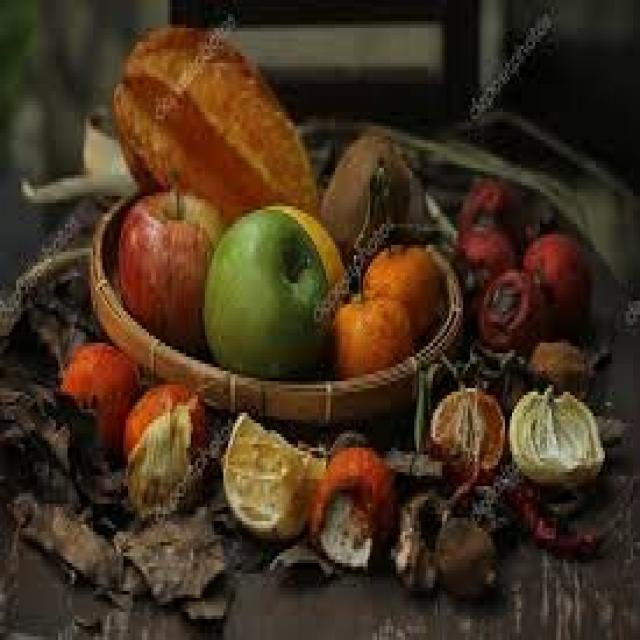organic waste: (111, 24, 316, 210), (193, 206, 326, 374), (433, 448, 596, 556), (119, 171, 218, 343), (221, 406, 324, 538), (114, 493, 221, 612), (5, 381, 114, 493), (323, 122, 408, 252), (505, 374, 603, 486), (310, 437, 394, 567), (263, 199, 347, 308), (21, 497, 116, 591), (356, 231, 440, 336), (60, 336, 135, 451), (119, 378, 207, 468), (519, 228, 589, 332), (426, 381, 500, 476), (330, 290, 414, 367), (433, 511, 500, 598), (480, 262, 544, 350), (447, 217, 510, 294), (526, 325, 591, 392), (391, 496, 438, 580), (456, 175, 524, 231)
